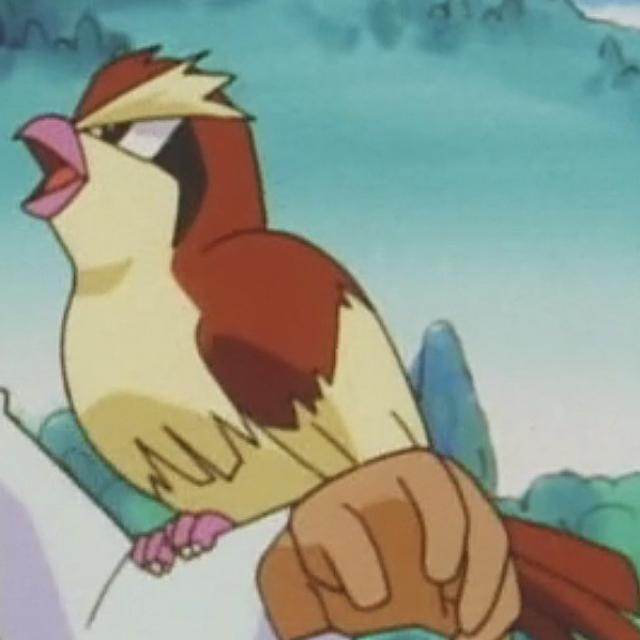Pidgey: (18, 46, 397, 552)
